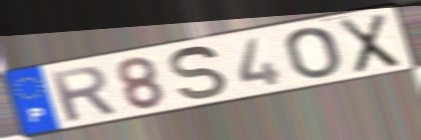4: (235, 35, 284, 87)
8: (113, 55, 168, 111)
O: (282, 25, 344, 80)
R: (45, 63, 120, 124)
S: (167, 45, 230, 101)
X: (336, 10, 403, 76)
